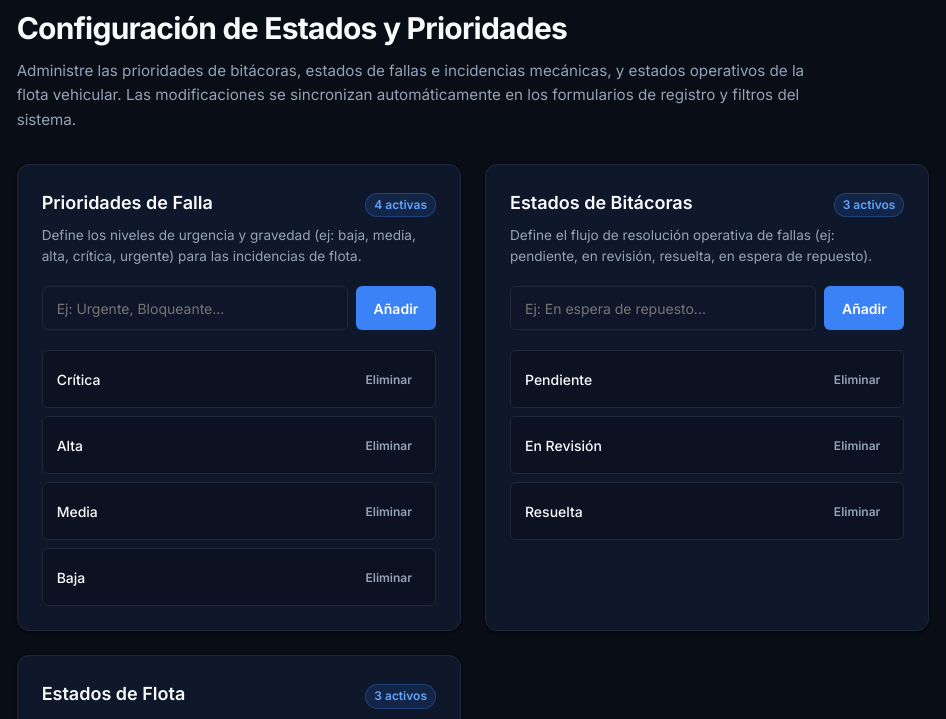
Test: ConfiguracionCatalogosPage › permite eliminar un nivel de prioridad y anuncia el éxito
Click the button with aria-label "Eliminar prioridad crítica": coordinates (389, 379) x1=356 y1=361 x2=421 y2=397
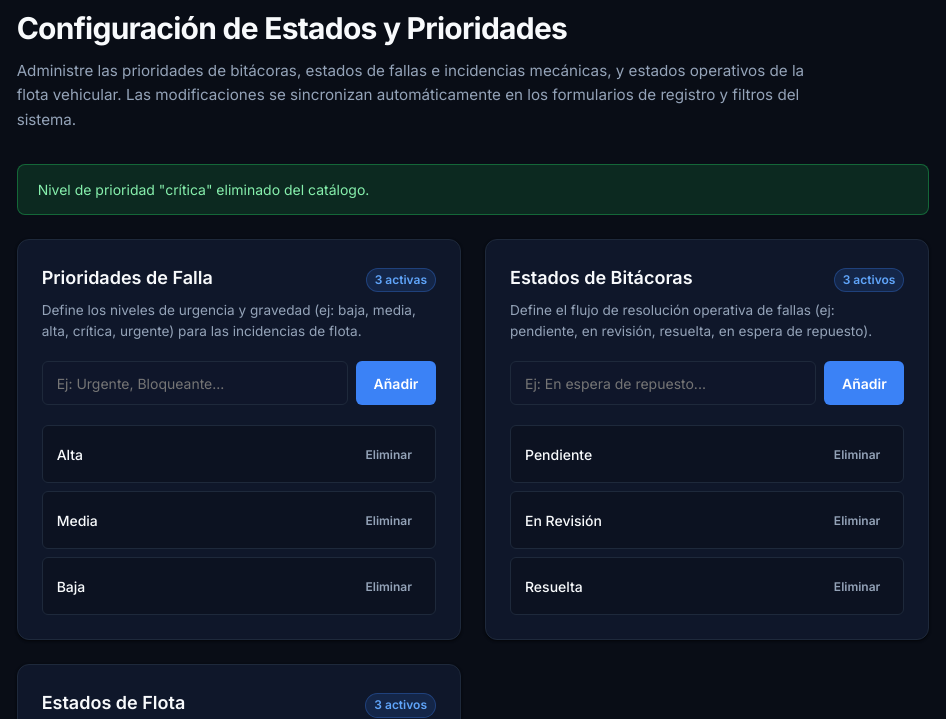
Result: the text "Nivel de prioridad \"crítica\" eliminado del catálogo." is shown at x1=17 y1=164 x2=929 y2=215
